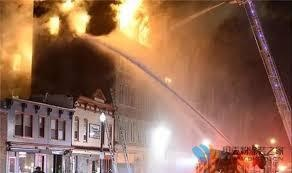fire: (38, 0, 156, 39)
